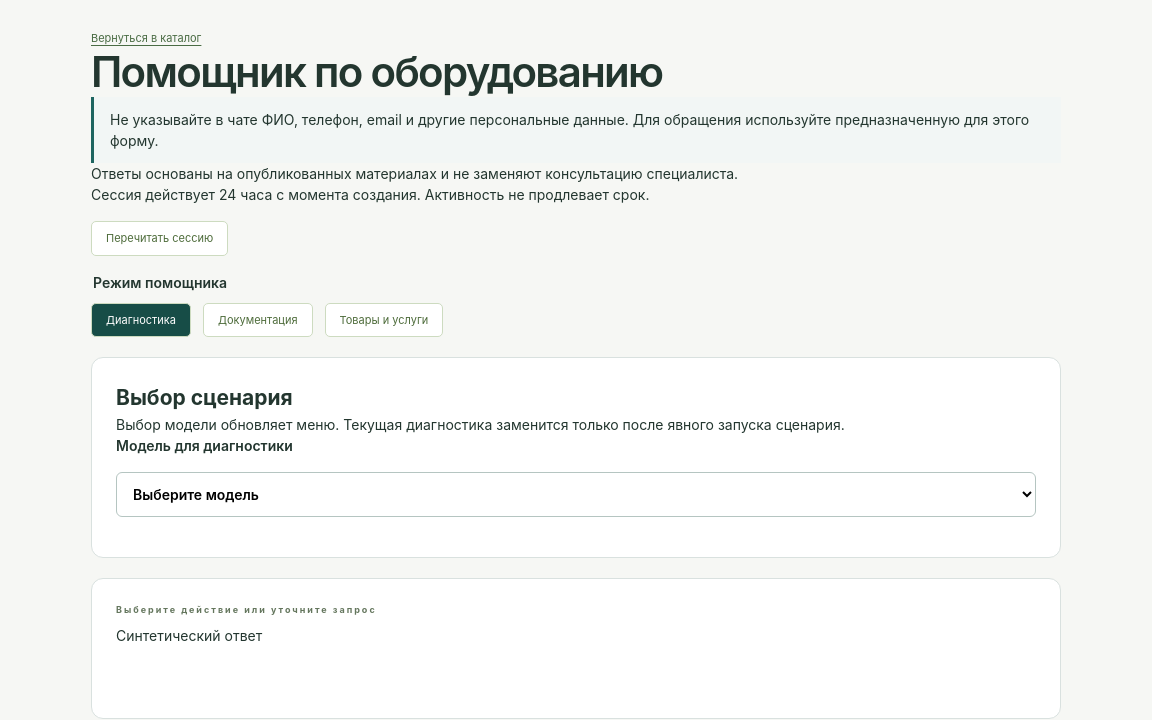
Test: uses real model/scenario selection and only server buttons for transitions and feedback
This screenshot has width=1152, height=720.
expect the element named "Актуальный ответ" is shown: met, box [91,578,1061,719]
Select "Демо-модель" in the dropdown labelled "Модель для диагностики" at (576, 494), box [116,472,1036,517]
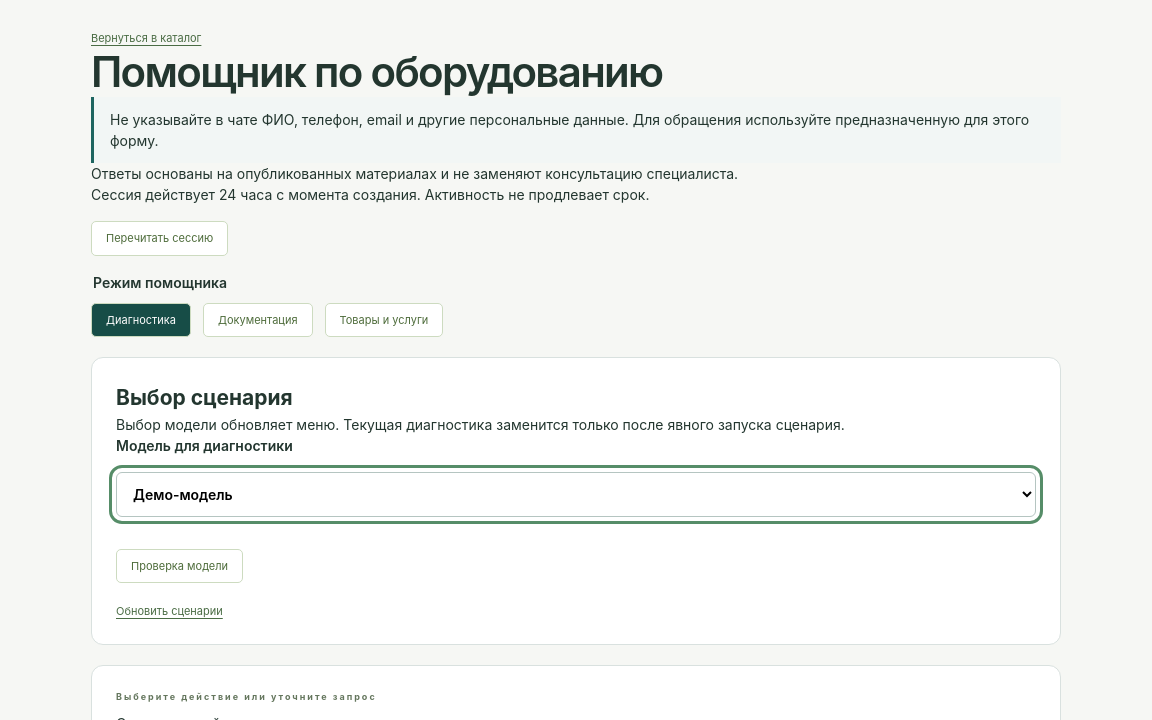
Click the button "Проверка модели" at (180, 566), box [116,549,243,583]
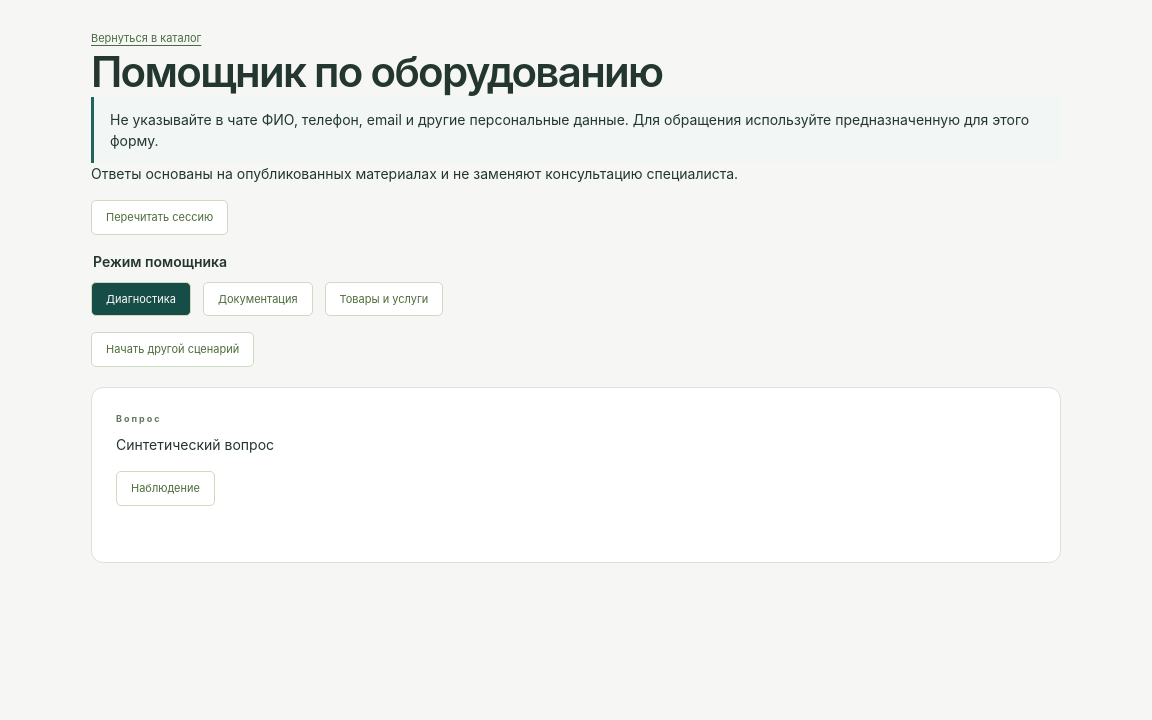
Click the button "Наблюдение" at (165, 489), box [116,471,215,506]
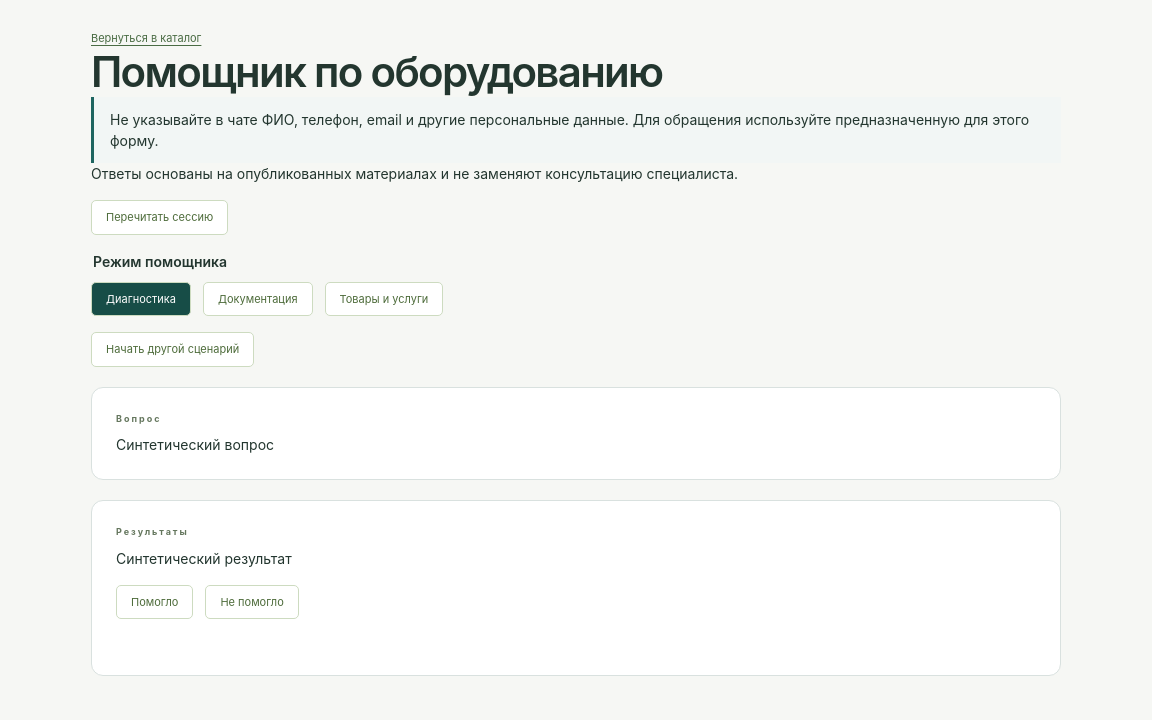
Click the button "Помогло" at (155, 602), box [116,585,193,619]
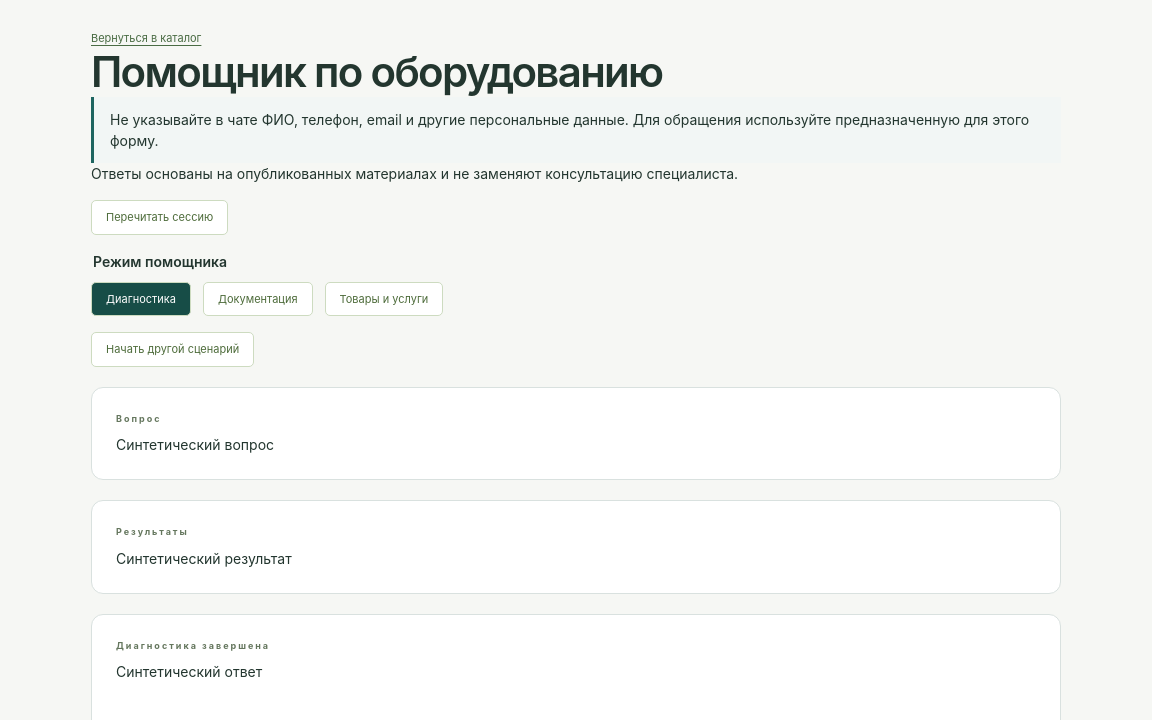
expect the button "Наблюдение" is not shown: met
expect the button "Начать другой сценарий" is shown: met, box [91,332,254,367]
expect the text "Диагностика завершена" is shown: met, box [116,640,270,651]
